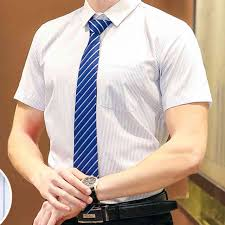tie: (71, 16, 116, 179)
